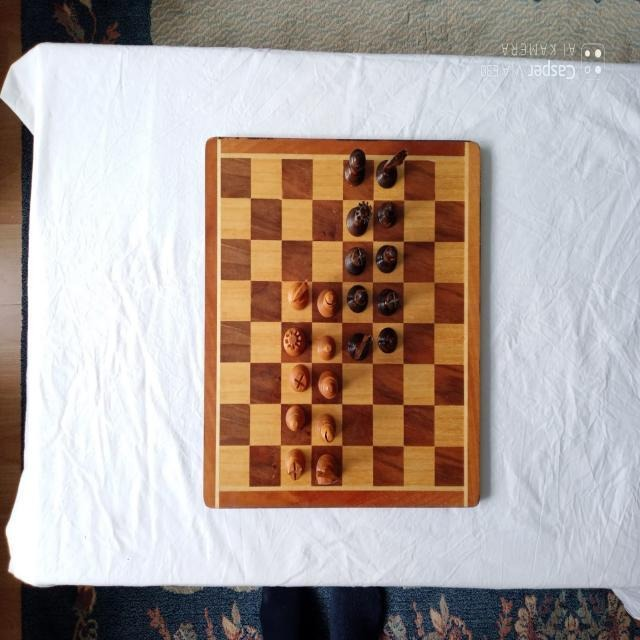black-bishop: (373, 243, 398, 275), (346, 283, 369, 313)
black-king: (344, 146, 367, 185)
black-knight: (376, 147, 408, 189), (346, 331, 373, 362)
black-pawn: (377, 199, 399, 229), (377, 326, 399, 354)
black-queen: (345, 201, 372, 237)
black-rook: (376, 287, 400, 317), (344, 246, 367, 274)
white-bishop: (314, 412, 337, 444), (317, 286, 339, 317)
white-king: (318, 369, 338, 399)
white-knight: (314, 453, 339, 486), (287, 277, 311, 310)
white-pawn: (285, 404, 307, 432), (316, 334, 336, 362)
white-queen: (282, 326, 306, 357)
white-rook: (286, 447, 306, 480), (289, 363, 311, 393)
